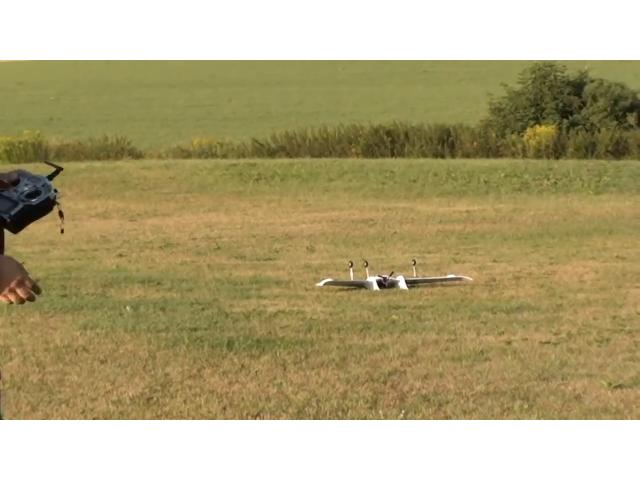Anti-Drone: (289, 250, 511, 302)
